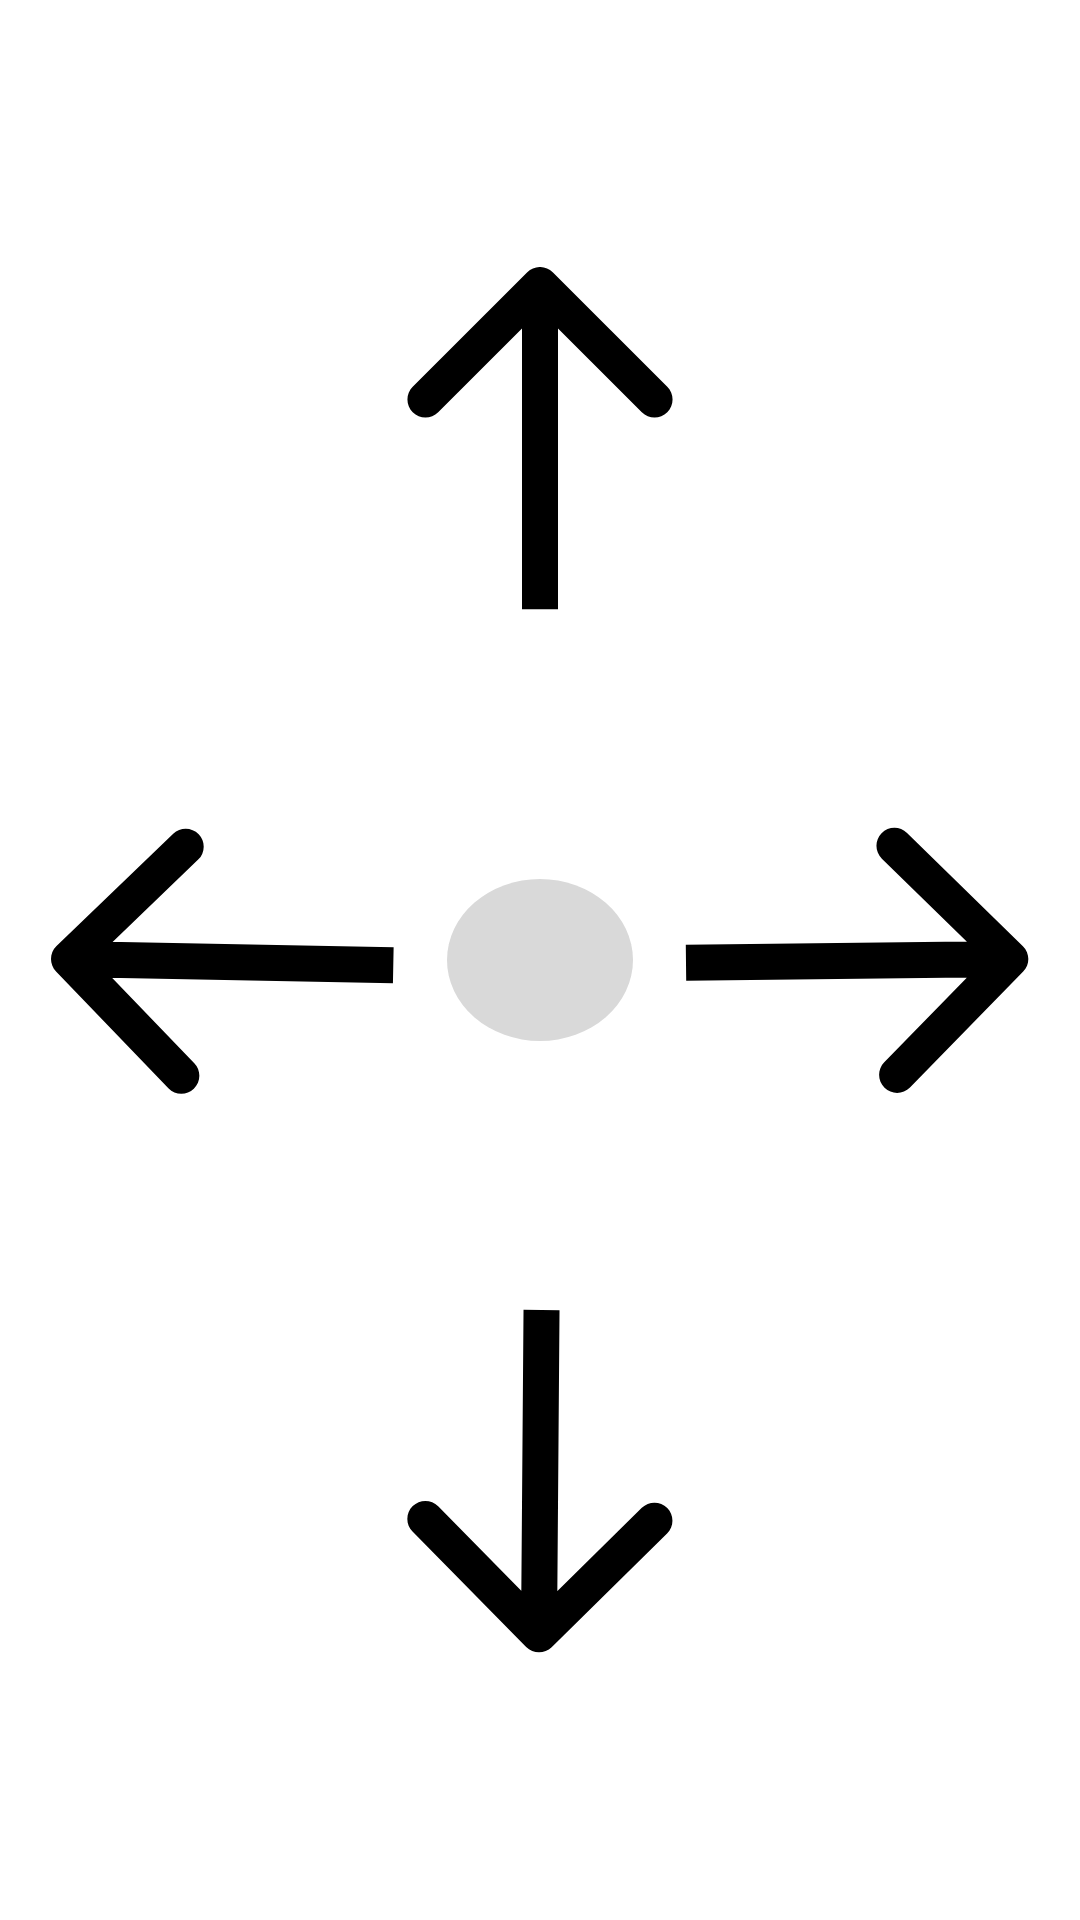

Where icons sit on this 1080 × 1920 app screen, as (x1, y1, x2, y2):
phases create directions back: (407, 1309, 673, 1653)
phases create directions front: (407, 267, 673, 610)
phases create directions left: (51, 828, 394, 1094)
phases create directions right: (685, 827, 1029, 1093)
